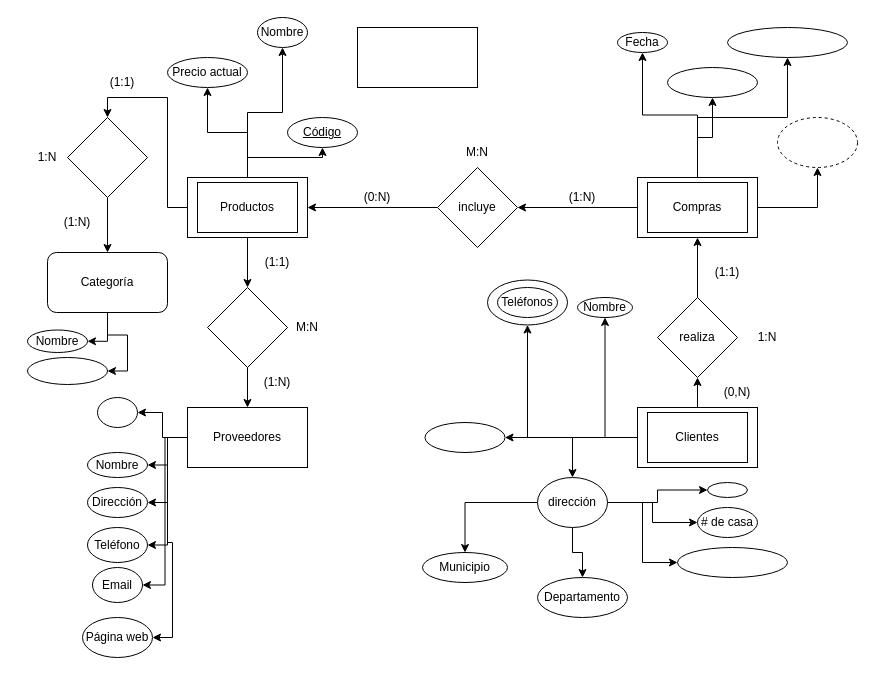
This 875x675 diagram has some shape labels left out. Here are the shapes that lost their labels. From the top down, the centre of each, then its label:
point (417, 57): Empresa
point (787, 42): Código de factura
point (712, 82): cant. productos
point (107, 157): tiene
point (817, 142): total factura
point (247, 327): proviene
point (67, 370): Descripción
point (117, 412): NIT
point (464, 437): DUI
point (727, 490): Calle
point (732, 562): Colonia/residencial
